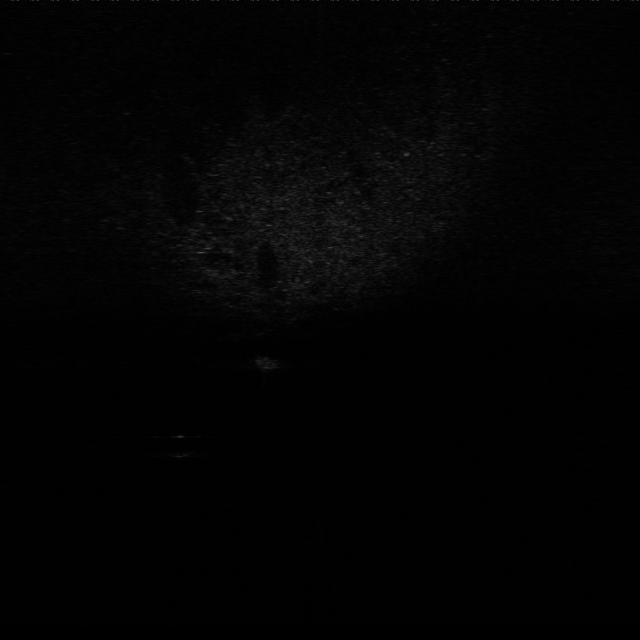ball: (163, 432, 197, 460)
cube: (254, 352, 284, 375)
